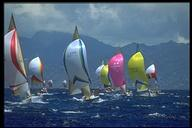sailboat: (5, 11, 41, 105), (60, 23, 101, 103), (125, 42, 155, 98), (106, 50, 132, 98), (28, 55, 49, 97), (144, 63, 162, 96), (100, 64, 113, 93)
sky: (81, 4, 188, 31)
water: (5, 104, 189, 125)
